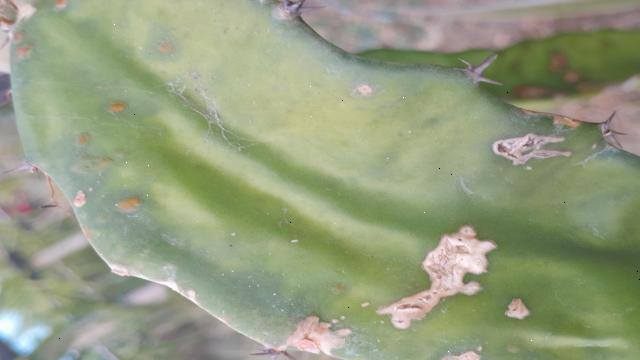stemcanker: (9, 35, 227, 229), (377, 199, 622, 357)
